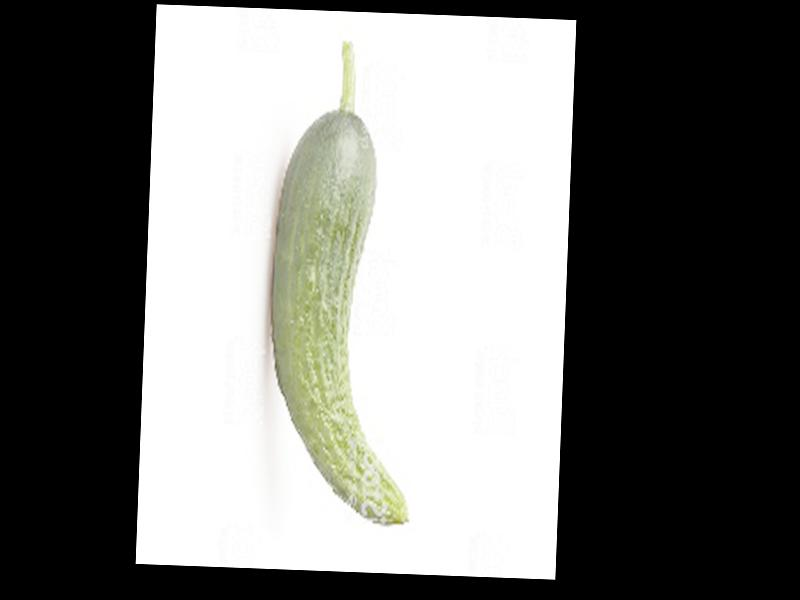Cucumber: (262, 38, 425, 526)
